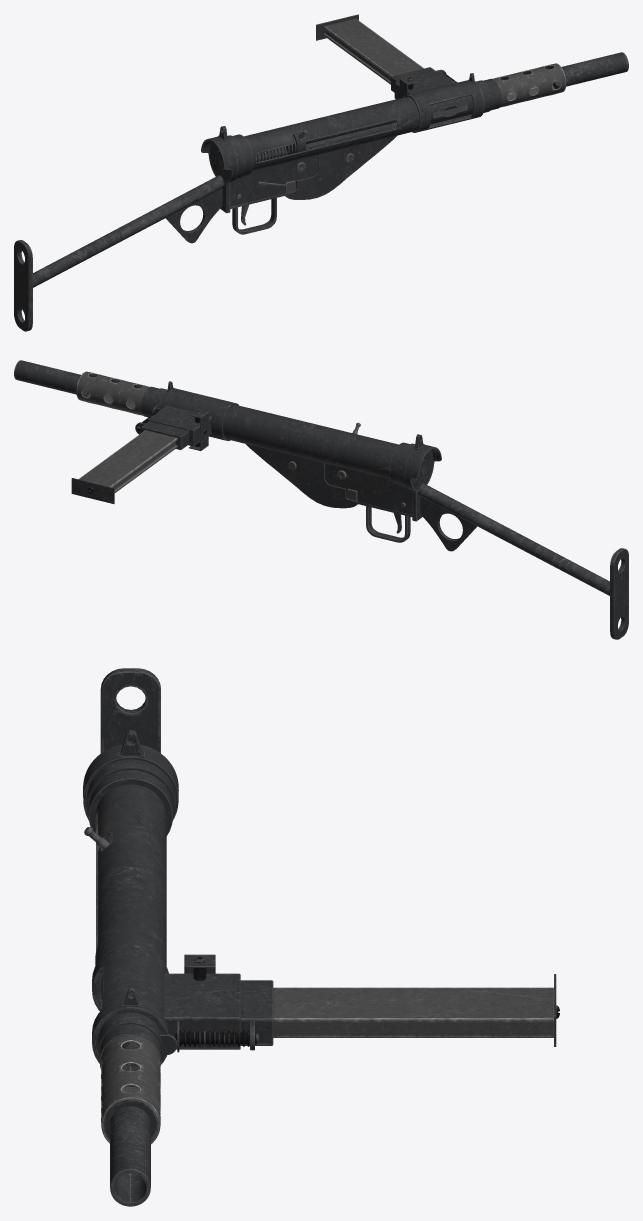
File: sten.glb
3 views of the same model, one above another, from view 1: azimuth 30°, elevation 25°; view 2: azimuth 150°, elevation 25°; view 3: azimuth 270°, elevation 25° (orthographic). The views are drawn at different scales.
Visible parts, largest first — view 1: receiver assault rifle_3, BUT_2, Cube.004, Plane.010, Plane.008, flame extinguisher, muzzle brake_1, butt_1, muzzle, receiver assault rifle_2, BUT_3, muzzle brake_2 (+5 smaller); view 2: receiver assault rifle_3, BUT_2, Cube.004, Plane.010, Plane.008, flame extinguisher, butt_1, muzzle brake_1, muzzle, receiver assault rifle_2, BUT_3, Cube.002 (+6 smaller); view 3: Cube.004, receiver assault rifle_3, muzzle brake_1, Cube.002, muzzle, butt_1, flame extinguisher, receiver assault rifle_2, Cube.003, muzzle brake_3, receiver assault rifle_1, Cylinder.002.
Boxes of the visible parts, left/top/right/bottom form: receiver assault rifle_3: left=244, top=96, right=419, bottom=170; BUT_2: left=33, top=175, right=224, bottom=287; Cube.004: left=324, top=18, right=423, bottom=84; Plane.010: left=285, top=127, right=396, bottom=199; Plane.008: left=230, top=148, right=317, bottom=208; flame extinguisher: left=493, top=63, right=566, bottom=107; muzzle brake_1: left=403, top=80, right=484, bottom=132; butt_1: left=14, top=240, right=32, bottom=331; muzzle: left=551, top=52, right=628, bottom=89; receiver assault rifle_2: left=209, top=134, right=253, bottom=181; BUT_3: left=165, top=188, right=222, bottom=243; muzzle brake_2: left=428, top=95, right=473, bottom=124; receiver assault rifle_3: left=223, top=405, right=398, bottom=478; BUT_2: left=418, top=483, right=609, bottom=595; Cube.004: left=78, top=430, right=177, bottom=492; Plane.010: left=246, top=444, right=357, bottom=508; Plane.008: left=325, top=463, right=412, bottom=516; flame extinguisher: left=76, top=371, right=149, bottom=415; butt_1: left=610, top=548, right=628, bottom=639; muzzle brake_1: left=158, top=388, right=238, bottom=440; muzzle: left=14, top=360, right=91, bottom=397; receiver assault rifle_2: left=389, top=442, right=433, bottom=489; BUT_3: left=420, top=496, right=476, bottom=551; Cube.002: left=148, top=405, right=212, bottom=446; Cube.004: left=273, top=987, right=553, bottom=1037; receiver assault rifle_3: left=95, top=784, right=166, bottom=999; muzzle brake_1: left=92, top=945, right=169, bottom=1070; Cube.002: left=164, top=973, right=240, bottom=1049; muzzle: left=103, top=1099, right=158, bottom=1206; butt_1: left=100, top=668, right=160, bottom=753; flame extinguisher: left=101, top=1035, right=160, bottom=1144; receiver assault rifle_2: left=86, top=759, right=175, bottom=835; Cube.003: left=240, top=980, right=273, bottom=1045; muzzle brake_3: left=95, top=1011, right=163, bottom=1086; receiver assault rifle_1: left=83, top=744, right=178, bottom=819; Cylinder.002: left=175, top=1030, right=258, bottom=1046.
Bounding box in the file's own units: 2.5 × 0.6096 × 0.857.
1 material, 1 textured.
